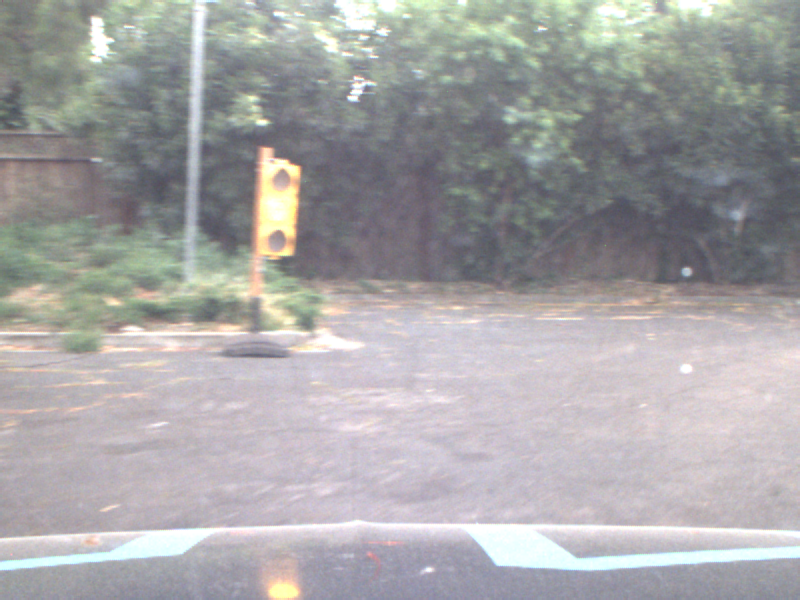Yellow: (255, 162, 297, 254)
